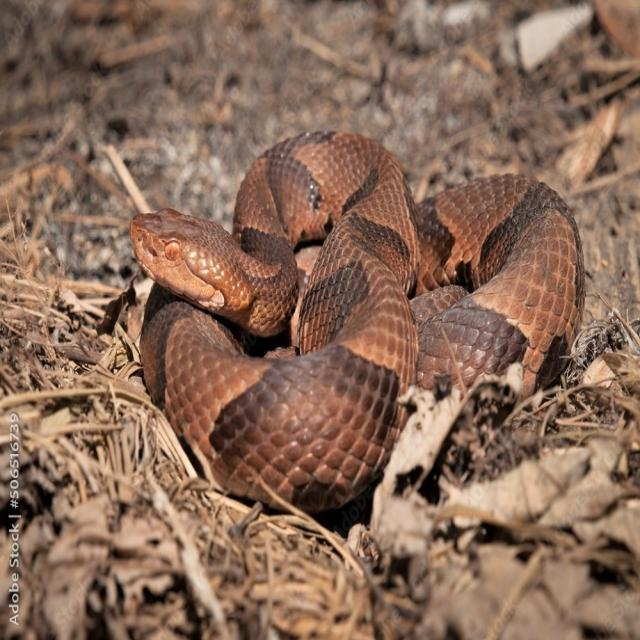Snake: (96, 90, 602, 550)
